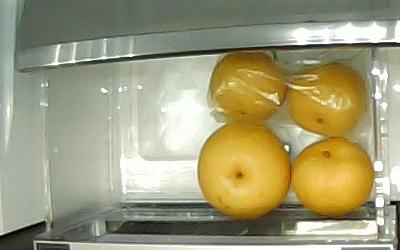pear: (196, 119, 291, 218), (290, 135, 373, 216)
pear_vinyl: (288, 60, 367, 137), (209, 52, 287, 120)
